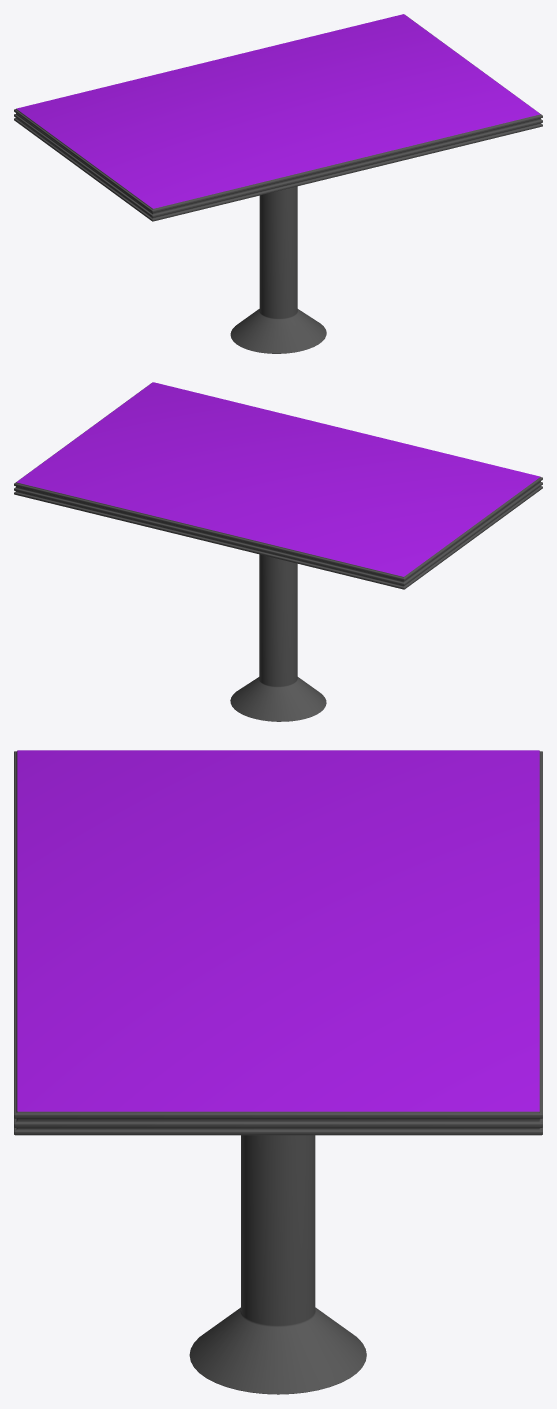
The model's file is Leone Table RIGHT SIZE HOPEFULLY.fbx.
3 renders of one model, top to bottom at view 1: azimuth 30°, elevation 25°; view 2: azimuth 150°, elevation 25°; view 3: azimuth 270°, elevation 25°, orthographic. The views are drawn at different scales.
Visible parts, largest first — view 1: Cylinder; view 2: Cylinder; view 3: Cylinder.
Part boxes in pixels (x1,y1,x2,y2): Cylinder: [14, 14, 542, 353]; Cylinder: [14, 382, 542, 721]; Cylinder: [14, 750, 542, 1394].
Bounding box in the file's own units: 943 × 514 × 580.
